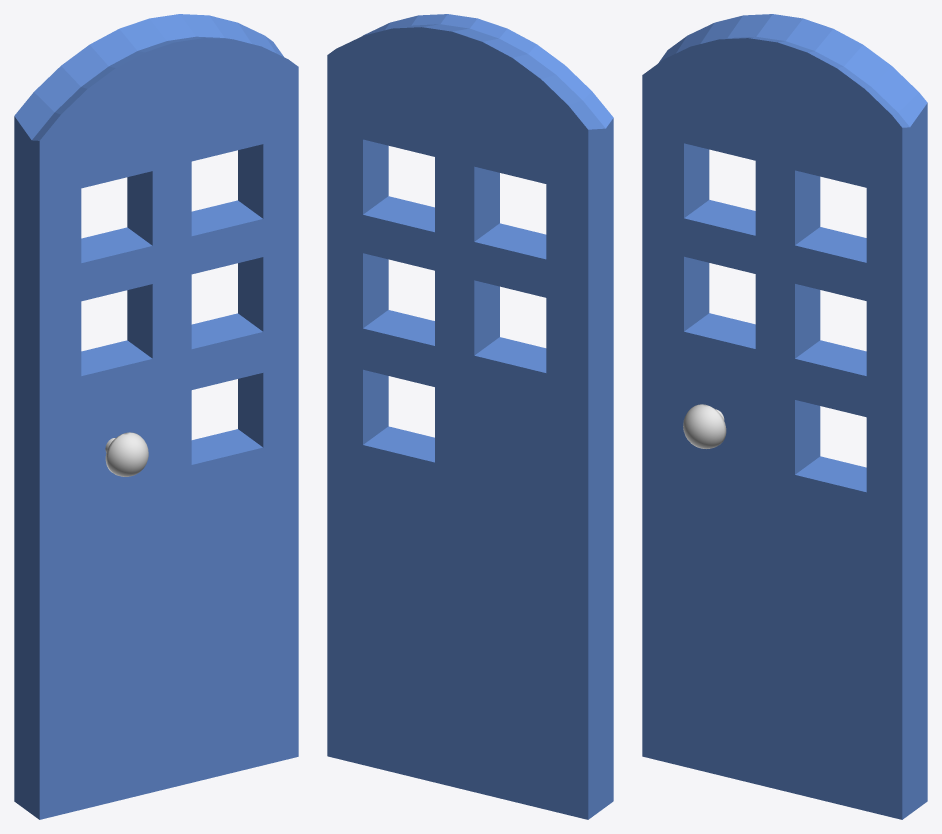
File: dormaybe.fbx
3 views of the same model, side by side, from view 1: azimuth 30°, elevation 25°; view 2: azimuth 150°, elevation 25°; view 3: azimuth 330°, elevation 25° (orthographic).
Parts seen in each view (by area): view 1: Plane, Sphere; view 2: Plane; view 3: Plane, Sphere.
Part boxes in pixels (x1,y1,x2,y2): Plane: (14,14,298,819); Sphere: (105,432,148,476); Plane: (327,14,613,819); Plane: (642,14,927,819); Sphere: (683,404,726,448).
Size of the model in its own units: 120 by 332 by 38.52.
